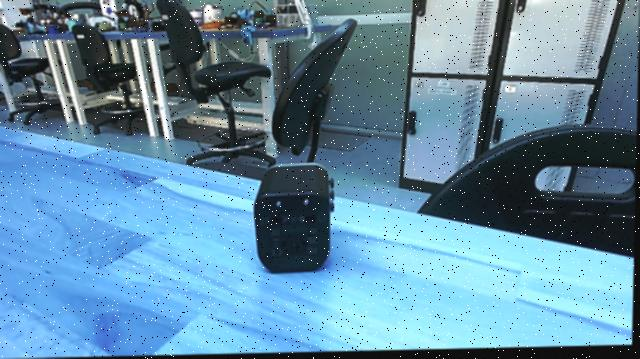adapter: (252, 162, 338, 282)
